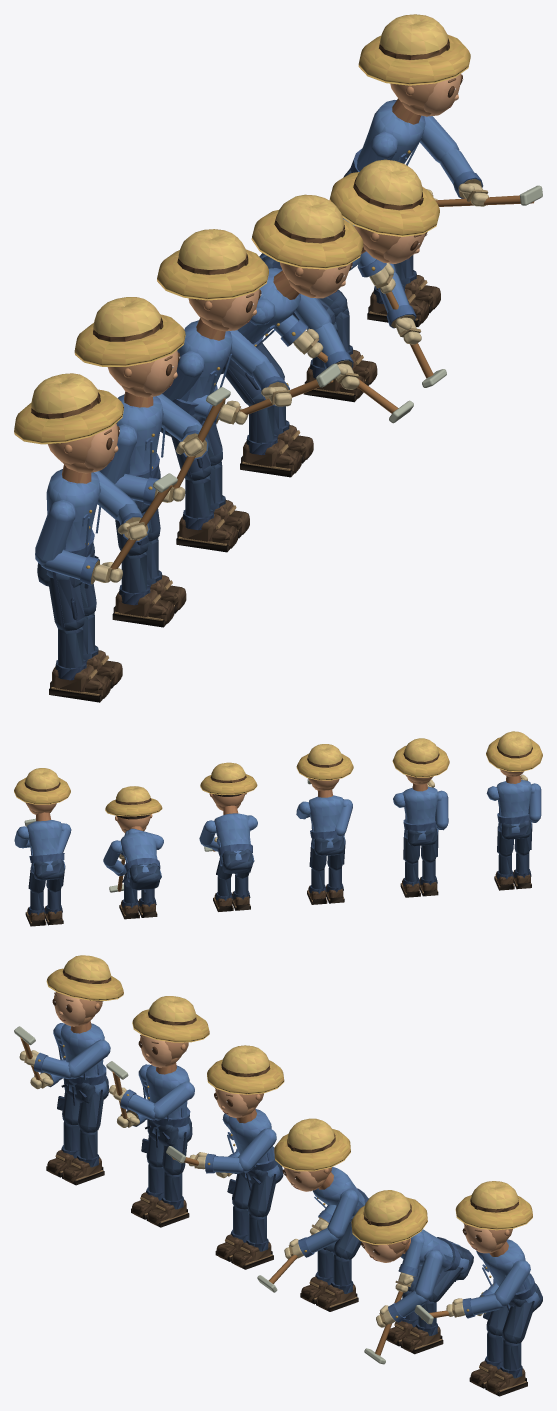
File: ba-hoe-front-after.glb
3 views of the same model, one above another, from view 1: azimuth 30°, elevation 25°; view 2: azimuth 150°, elevation 25°; view 3: azimuth 270°, elevation 25° (orthographic). The views are drawn at different scales.
Parts seen in each view (by area): view 1: strawHat (×6), rightShin (×6), denimJacketTorso (×5), head (×6), leftShin (×6), rightUpperArm (×4), leftUpperArm (×5), rightThigh (×2), rightLowerArm (×2), leftLowerArm (×2); view 2: strawHat (×6), denimJacketTorso (×6), leftShin (×6), rightShin (×6), trouserHips (×6), rightUpperArm (×4), head (×4), leftThigh (×4), leftUpperArm (×3), rightThigh (×3); view 3: strawHat (×6), denimJacketTorso (×6), leftShin (×6), head (×6), rightShin (×6), leftUpperArm (×6), leftThigh (×6), leftLowerArm (×6), trouserHips (×2), rightLowerArm, rightThigh.
Part boxes in pixels (x1=…): strawHat (×6): x1=14, y1=14, x2=470, y2=444; rightShin (×6): x1=49, y1=262, x2=428, y2=702; denimJacketTorso (×5): x1=46, y1=98, x2=425, y2=580; head (×6): x1=47, y1=74, x2=463, y2=473; leftShin (×6): x1=82, y1=255, x2=440, y2=688; rightUpperArm (×4): x1=35, y1=131, x2=397, y2=564; leftUpperArm (×5): x1=94, y1=116, x2=459, y2=520; rightThigh (×2): x1=48, y1=357, x2=264, y2=630; rightLowerArm (×2): x1=40, y1=474, x2=159, y2=585; leftLowerArm (×2): x1=315, y1=148, x2=483, y2=368; strawHat (×6): x1=14, y1=731, x2=542, y2=816; denimJacketTorso (×6): x1=27, y1=775, x2=531, y2=882; leftShin (×6): x1=25, y1=854, x2=514, y2=926; rightShin (×6): x1=44, y1=853, x2=531, y2=925; trouserHips (×6): x1=33, y1=820, x2=531, y2=893; rightUpperArm (×4): x1=56, y1=783, x2=541, y2=853; head (×4): x1=25, y1=778, x2=339, y2=833; leftThigh (×4): x1=28, y1=826, x2=513, y2=893; leftUpperArm (×3): x1=14, y1=820, x2=216, y2=866; rightThigh (×3): x1=327, y1=823, x2=532, y2=870; strawHat (×6): x1=46, y1=955, x2=532, y2=1244; denimJacketTorso (×6): x1=58, y1=1021, x2=539, y2=1308; leftShin (×6): x1=62, y1=1129, x2=527, y2=1396; head (×6): x1=52, y1=992, x2=512, y2=1262; rightShin (×6): x1=46, y1=1121, x2=503, y2=1388; leftUpperArm (×6): x1=68, y1=1039, x2=530, y2=1306; leftThigh (×6): x1=77, y1=1089, x2=534, y2=1343; leftLowerArm (×6): x1=34, y1=1052, x2=502, y2=1322; trouserHips (×2): x1=61, y1=1075, x2=192, y2=1147; rightLowerArm: x1=398, y1=1236, x2=424, y2=1276; rightThigh: x1=227, y1=1173, x2=251, y2=1209.
Size of what is drawn, in the model's own units: 6.36 by 2.41 by 5.45.
